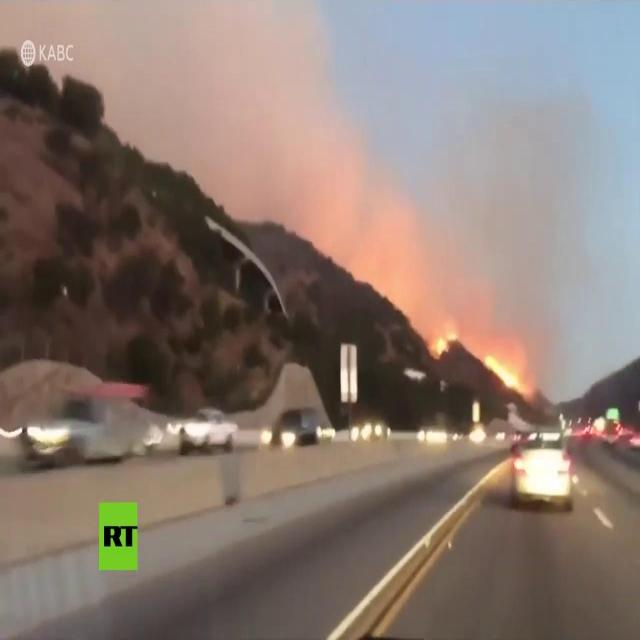Fire: (485, 353, 523, 387), (436, 323, 458, 353)
